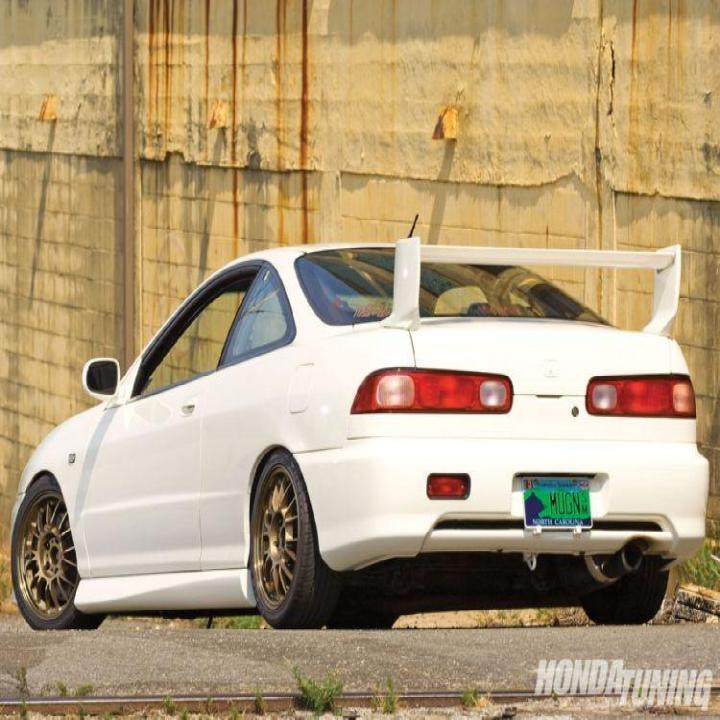car: (9, 236, 710, 630)
plat: (522, 476, 593, 536)
